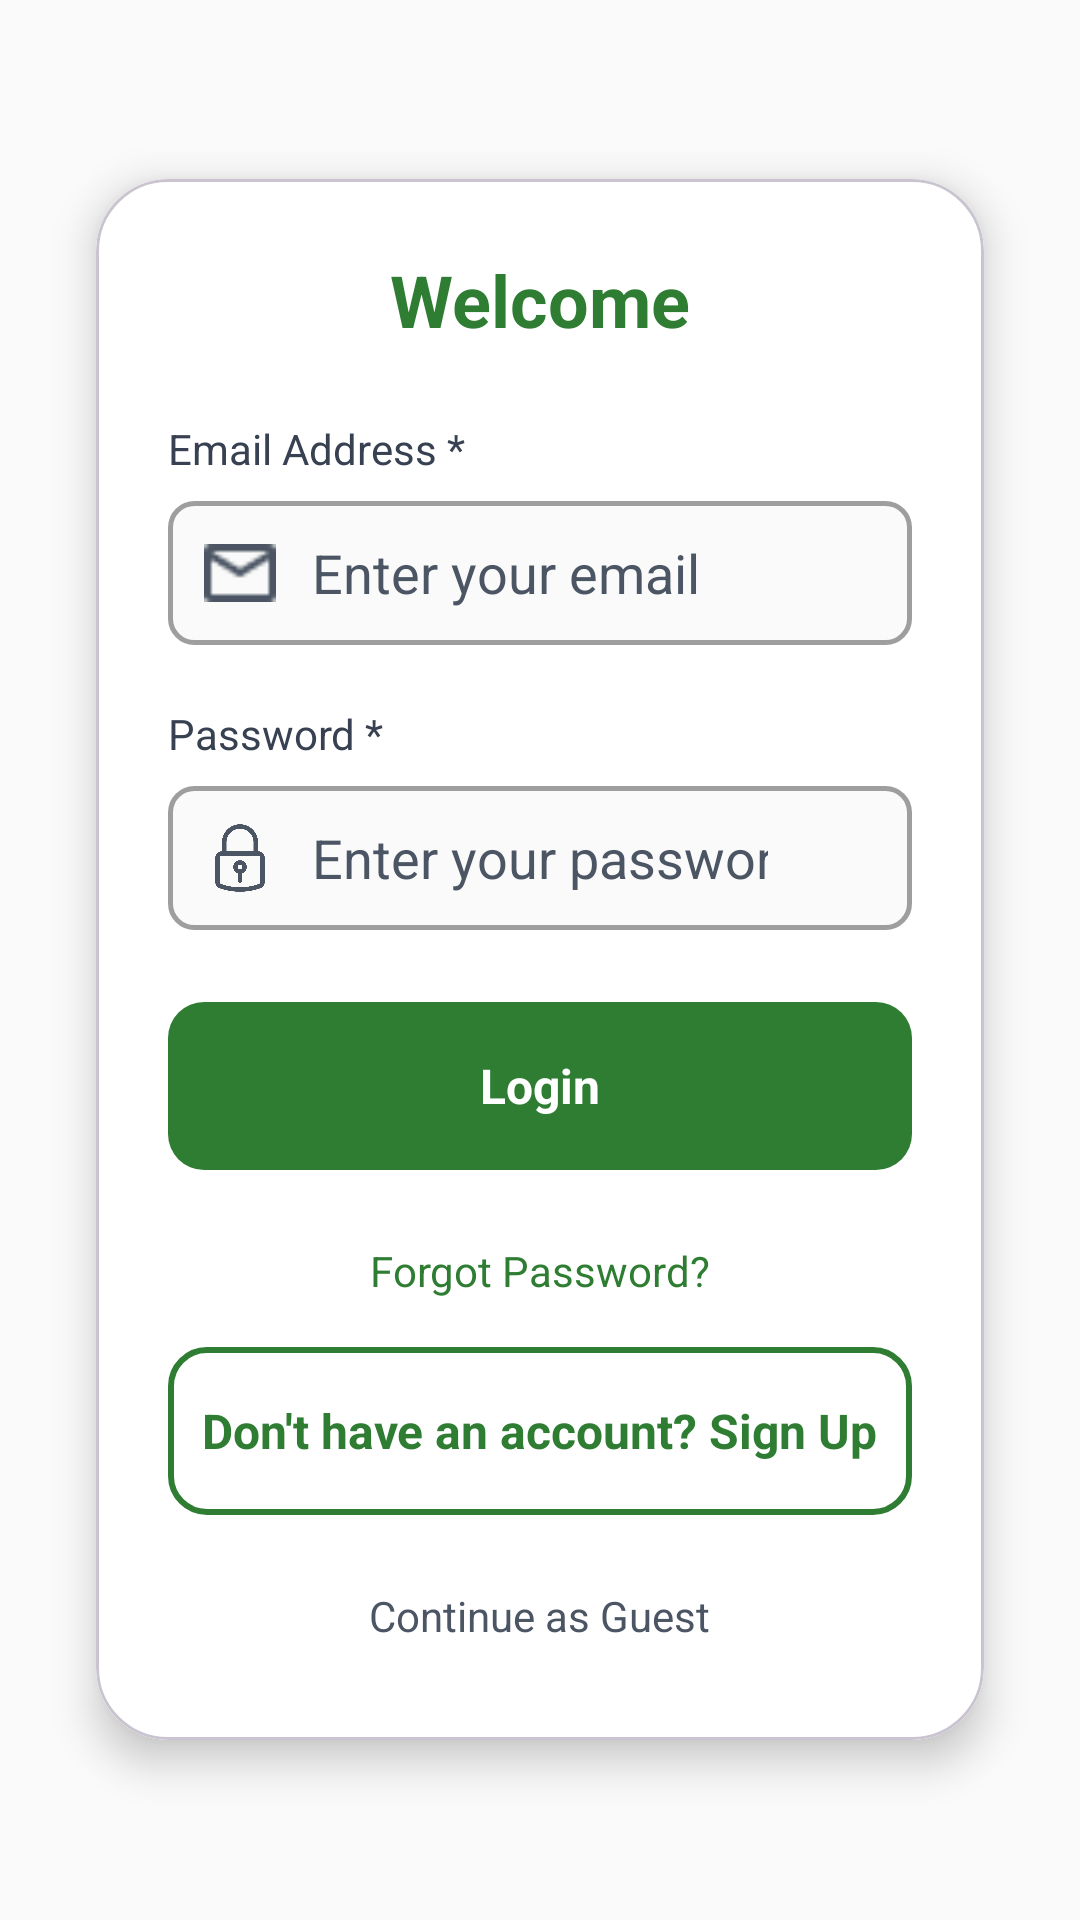

Screen size 1080x1920. Icon name, then its center in pixels as (x=x, y=y):
lock: (x=240, y=858)
